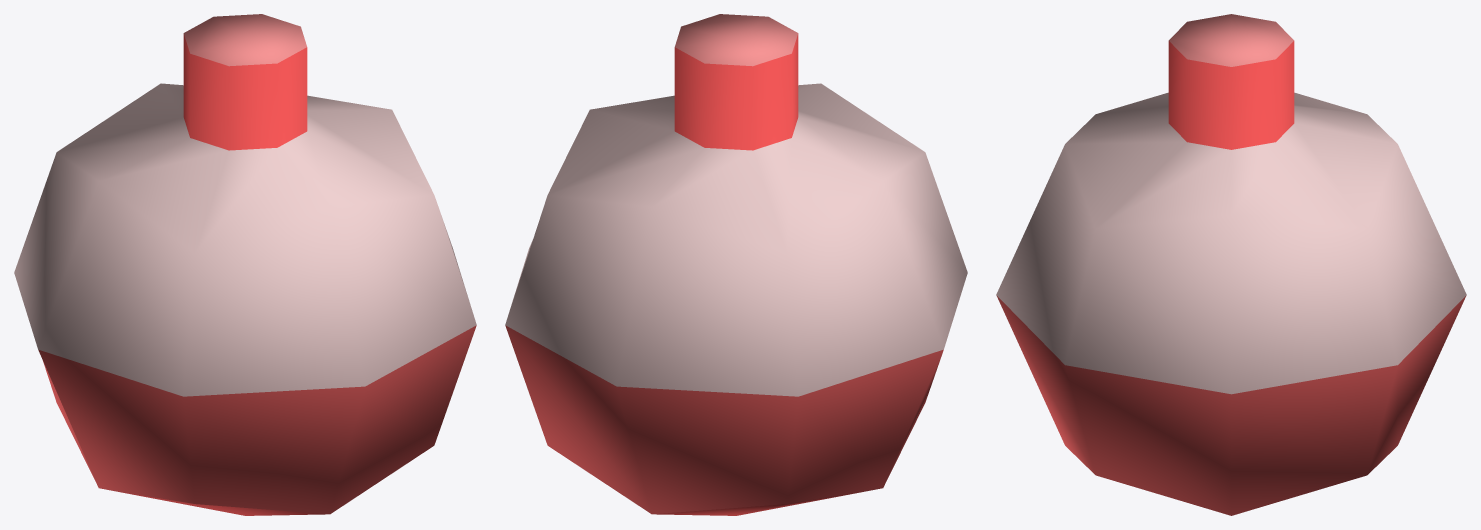
The model's file is Bobber.gltf.
3 views of the same model, side by side, from view 1: azimuth 30°, elevation 25°; view 2: azimuth 150°, elevation 25°; view 3: azimuth 270°, elevation 25° (orthographic).
Parts seen in each view (by area): view 1: Cube; view 2: Cube; view 3: Cube.
Part boxes in pixels (box(x1,y1,x2,y2)): Cube: box(14, 14, 476, 515); Cube: box(505, 14, 967, 515); Cube: box(996, 14, 1466, 515).
Size of the model in its own units: 0.1334 by 0.1462 by 0.1334.
1 material, 1 textured.
